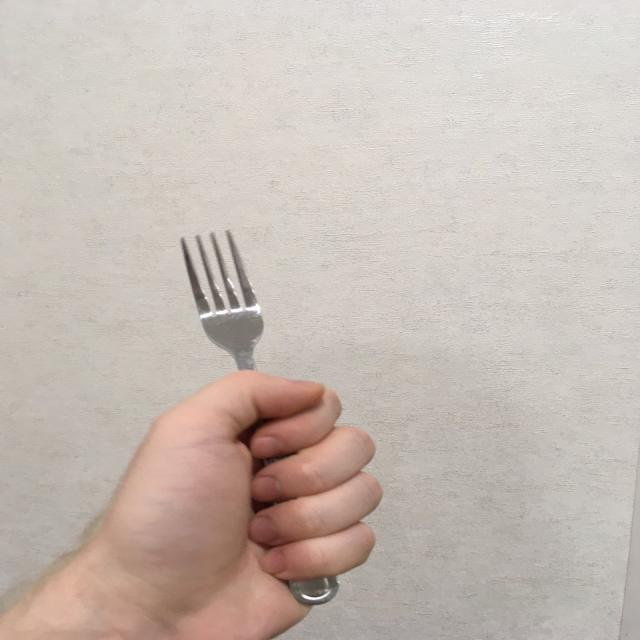fork: (179, 230, 339, 605)
